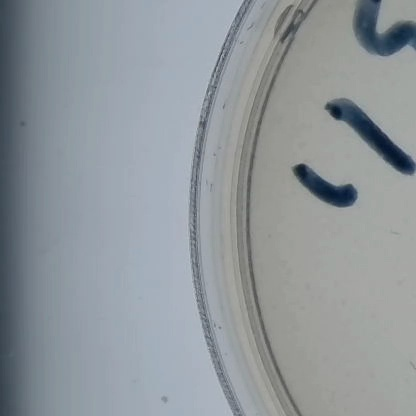worm: (383, 227, 407, 240), (403, 357, 416, 381)
